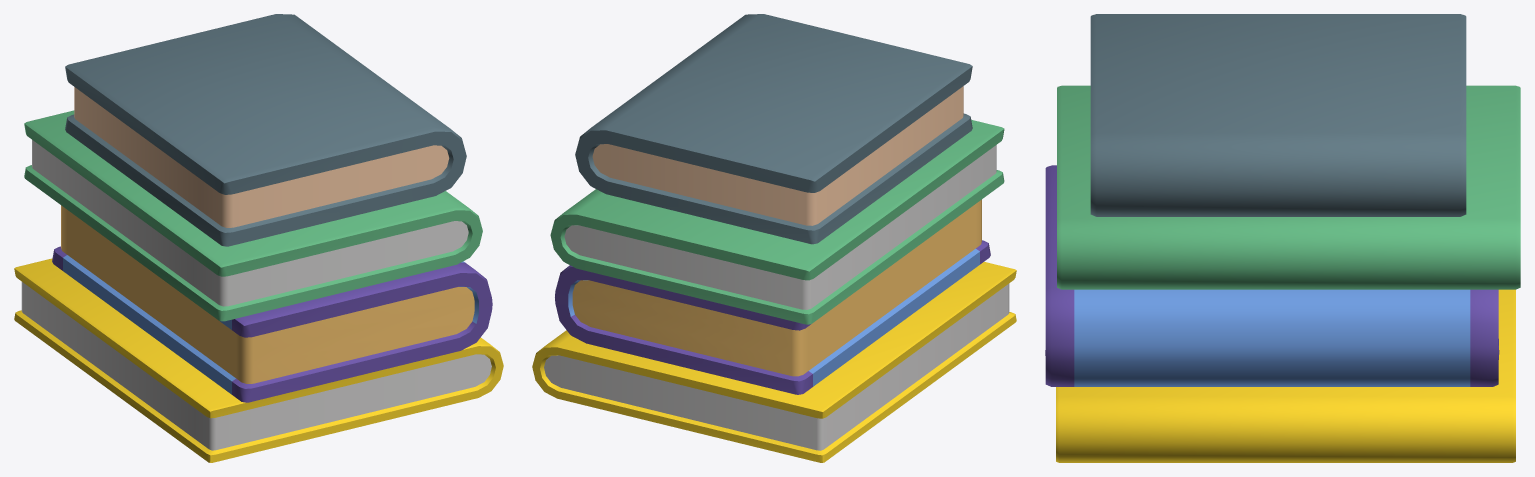
File: Book_02.glb
3 renders of one model, left to right at view 1: azimuth 30°, elevation 25°; view 2: azimuth 150°, elevation 25°; view 3: azimuth 270°, elevation 25°, orthographic. The views are drawn at different scales.
Visible parts, largest first — view 1: Book_02; view 2: Book_02; view 3: Book_02.
Boxes of the visible parts, left/top/right/bottom form: Book_02: left=14, top=14, right=503, bottom=462; Book_02: left=532, top=14, right=1016, bottom=462; Book_02: left=1045, top=14, right=1520, bottom=462.
Size of the model in its own units: 0.2543 by 0.2186 by 0.303.
Materials: 1 (1 with a texture image).
